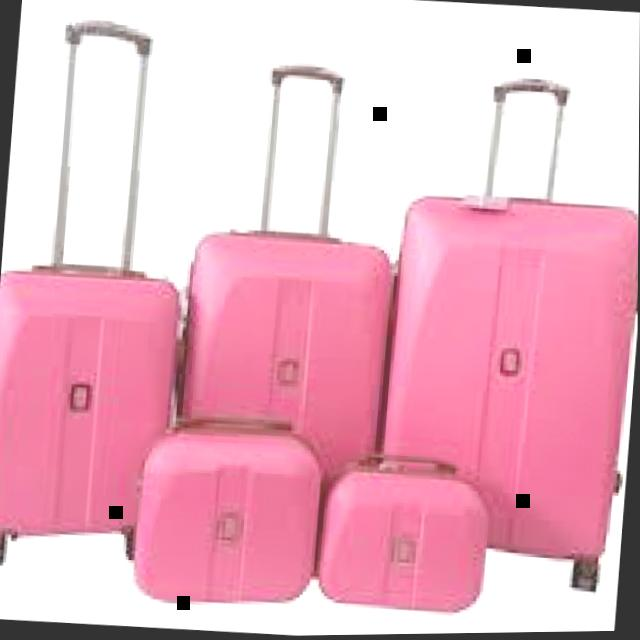luggage: (367, 183, 639, 576), (167, 212, 404, 481), (0, 251, 194, 545), (113, 397, 335, 613), (310, 441, 500, 624)
